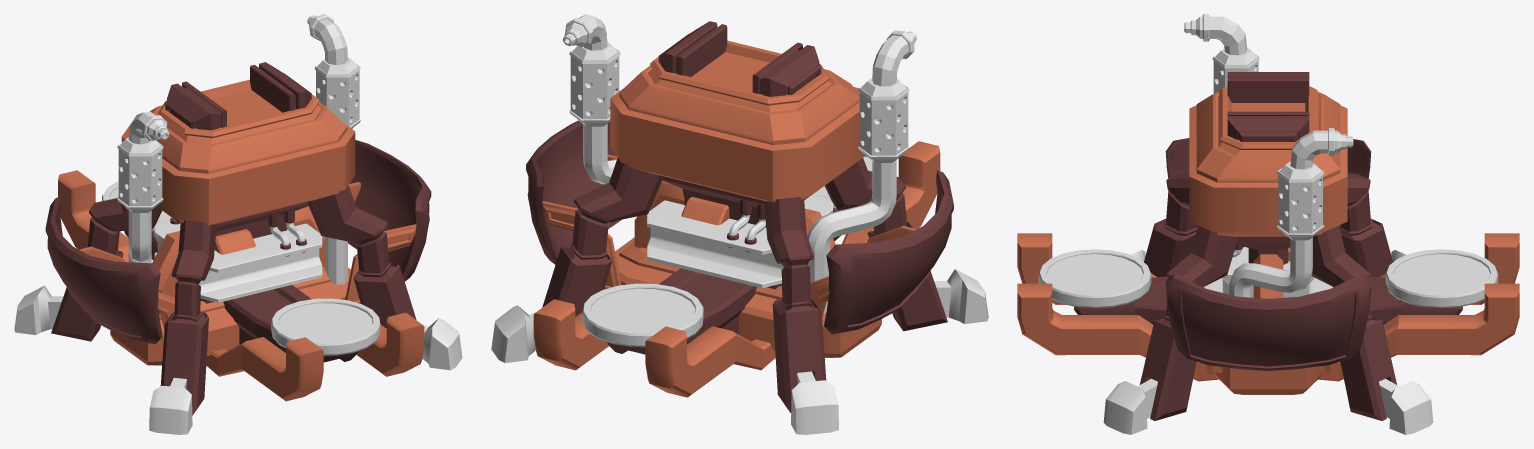
File: side_gun_base_module.fbx
3 renders of one model, left to right at view 1: azimuth 30°, elevation 25°; view 2: azimuth 150°, elevation 25°; view 3: azimuth 270°, elevation 25°, orthographic. The views are drawn at different scales.
Parts seen in each view (by area): view 1: side_gun_base; view 2: side_gun_base; view 3: side_gun_base.
Part boxes in pixels (<box>): side_gun_base: <box>14,14,462,434</box>; side_gun_base: <box>491,14,988,434</box>; side_gun_base: <box>1017,14,1519,434</box>.
Bounding box in the file's own units: 62.51 × 47.98 × 76.41.
